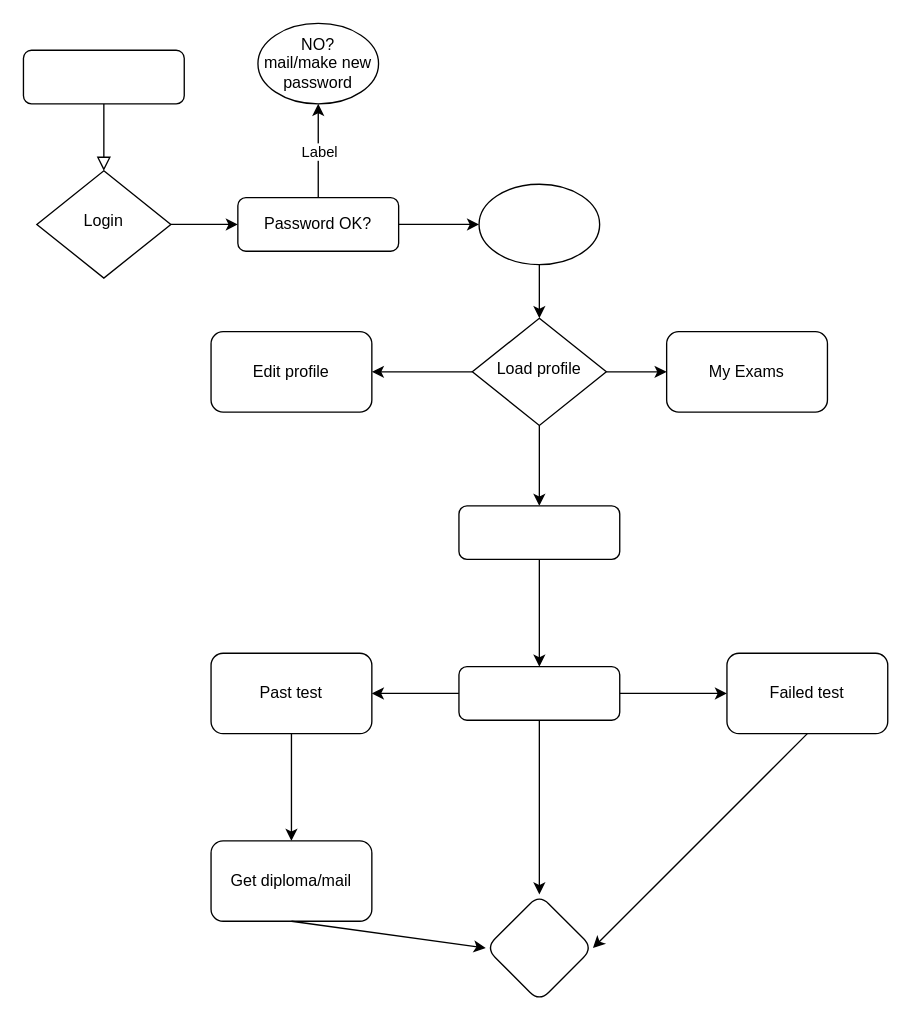
This 911x1025 diagram has some shape labels left out. Here are the shapes that lost their labels. From the top down, the centre of each, then its label:
At [103,76]: "START".
At [539,224]: "YES?".
At [539,532]: "Take test".
At [539,692]: "Get result".
At [538,947]: "Log out".
